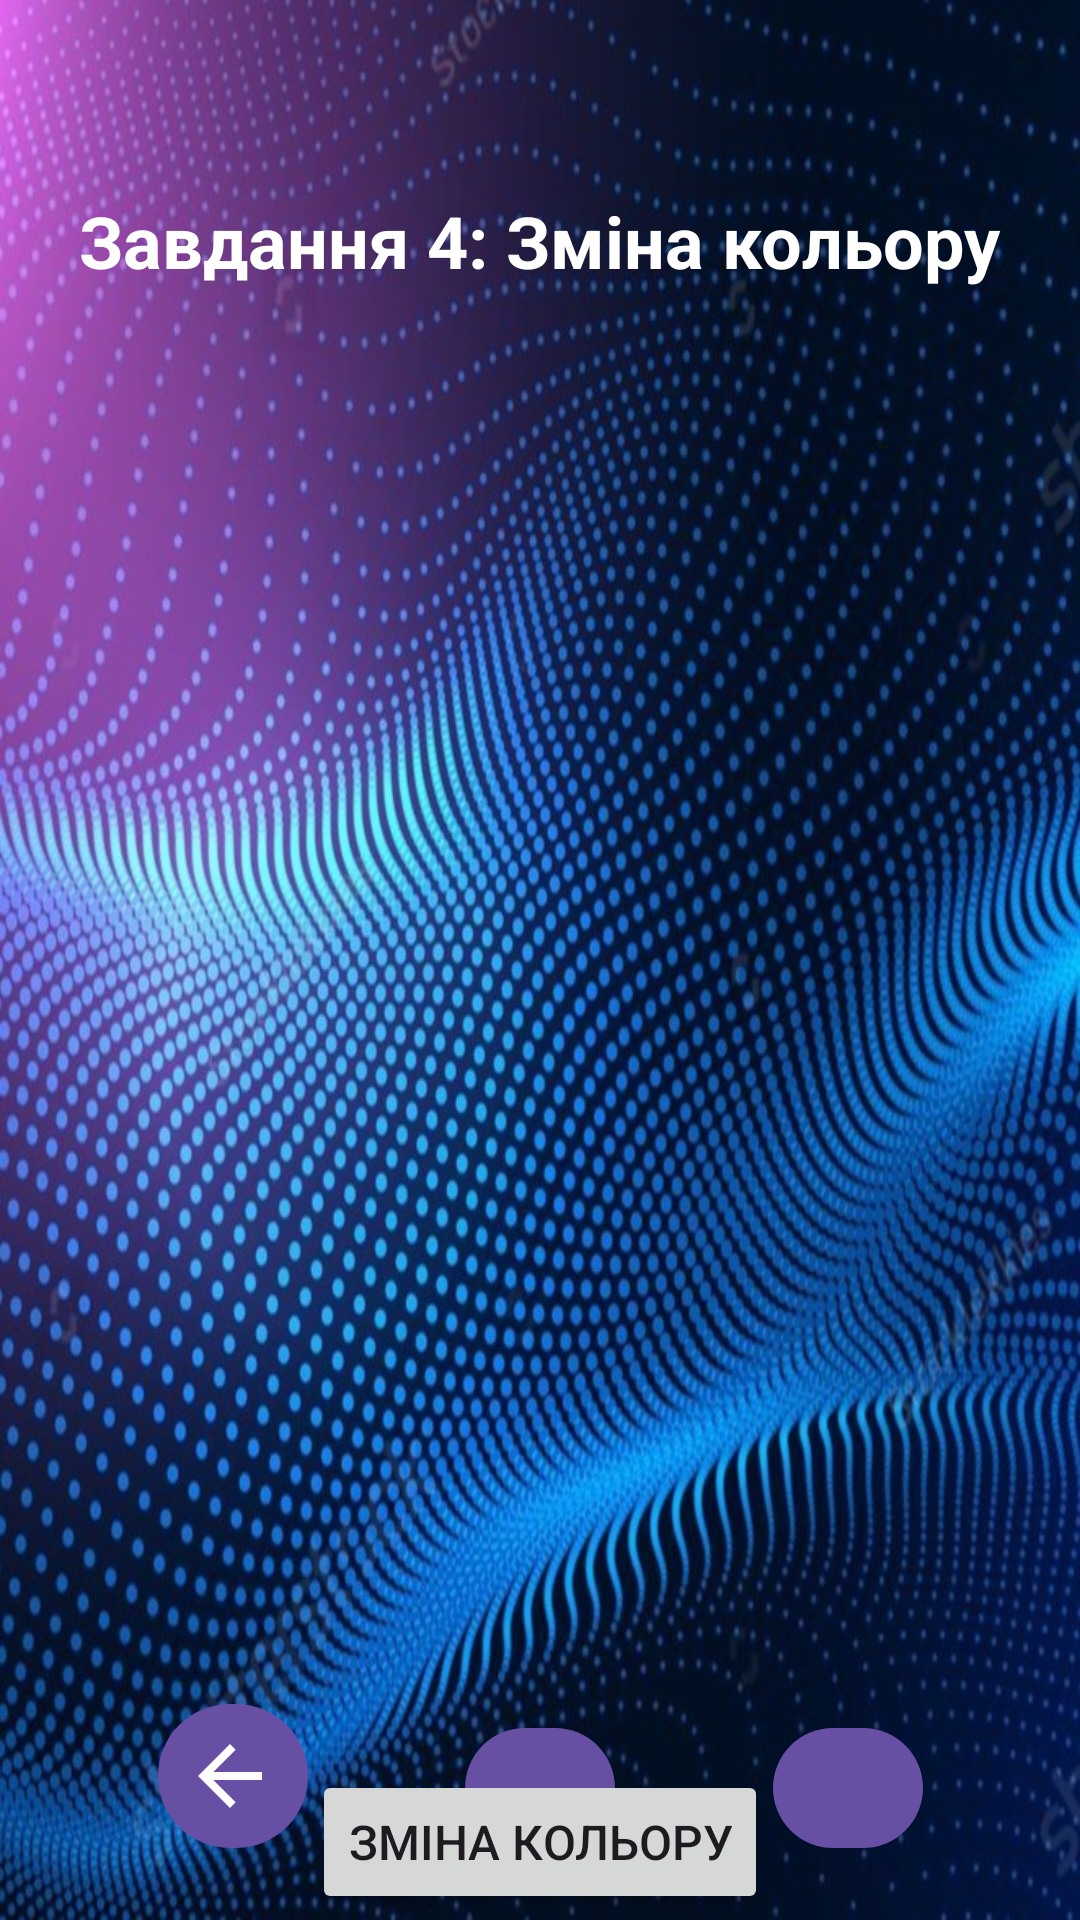

Screen size 1080px×1920px. Icon name, then its center in pixels as (x=x, y=y):
Повернутися назад: (x=233, y=1776)
